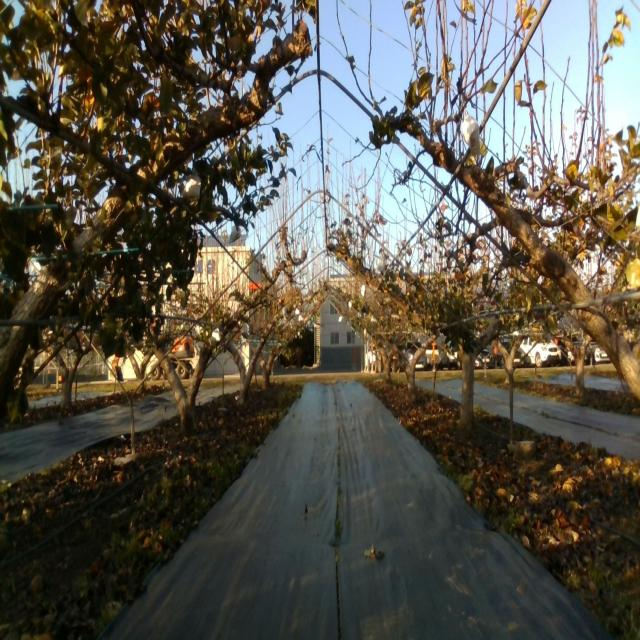pearbags: (461, 115, 481, 156), (180, 168, 202, 198)
